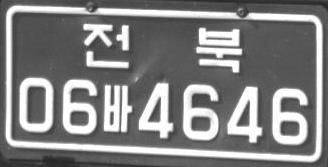0: (18, 75, 54, 134)
4: (227, 85, 262, 143), (138, 82, 173, 139)
6: (271, 87, 308, 146), (182, 83, 219, 140), (61, 77, 97, 134)
바: (102, 84, 132, 132)
전북_D: (82, 23, 242, 73)
